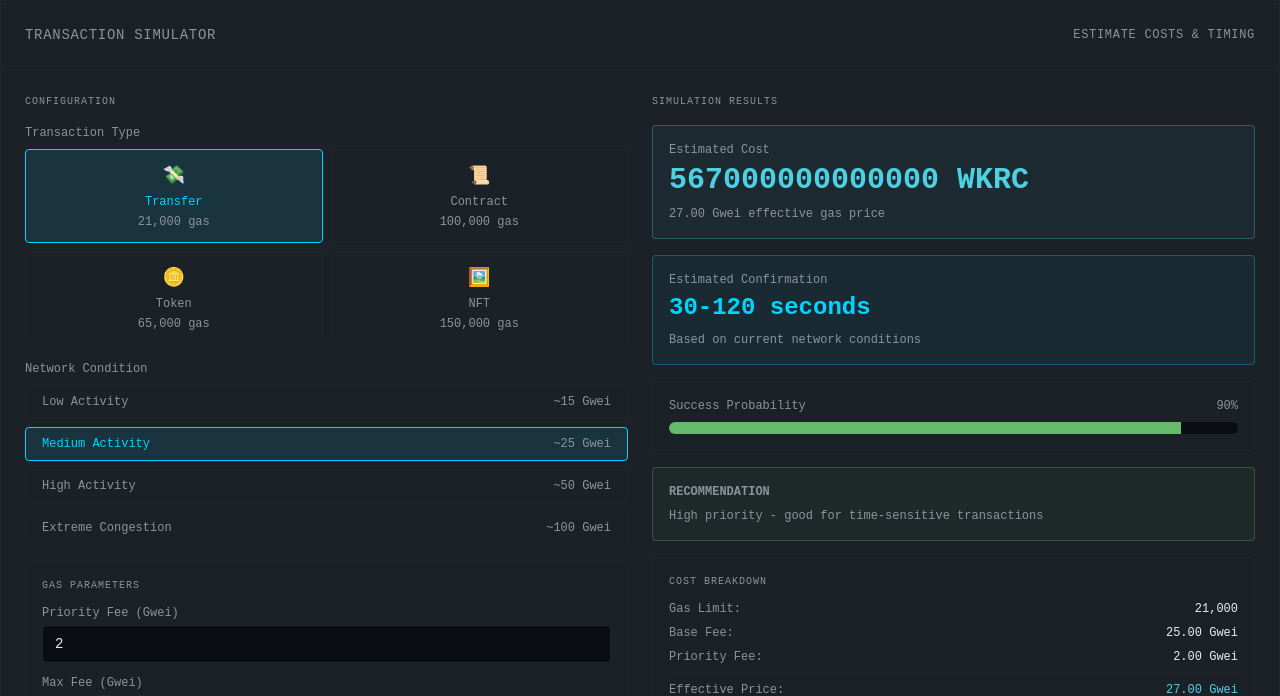
Test case: TransactionSimulator - Transaction Type Selection › selects NFT type and updates gas limit
This screenshot has width=1280, height=696.
Click the button with aria-label "Select NFT transaction type" at [479, 298], box [330,251,628,345]
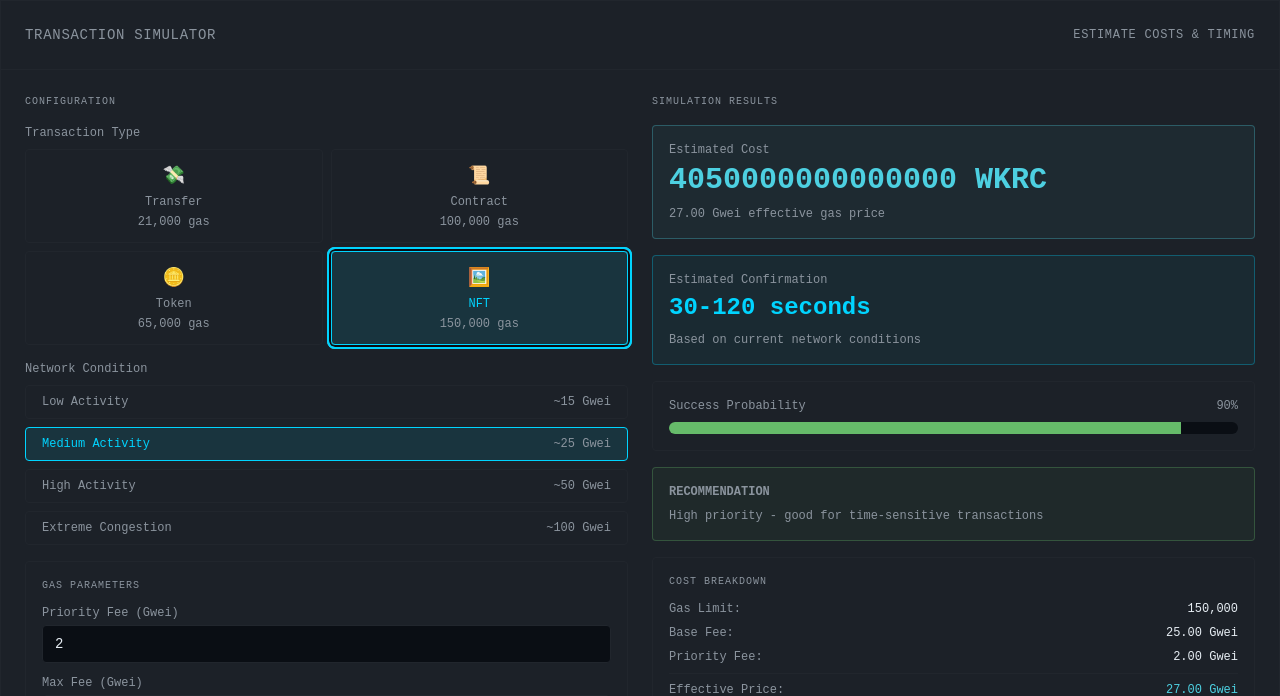
expect the text "150,000" is shown: met, box [1188,601,1238,617]
